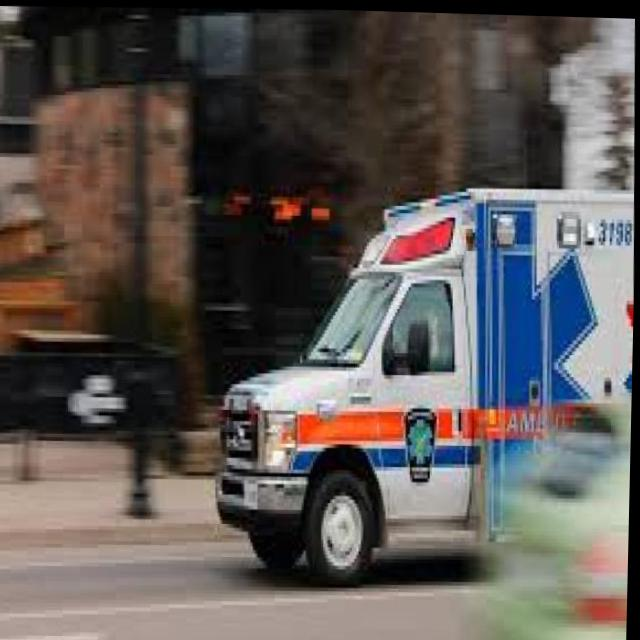ambulance: (201, 139, 638, 612)
